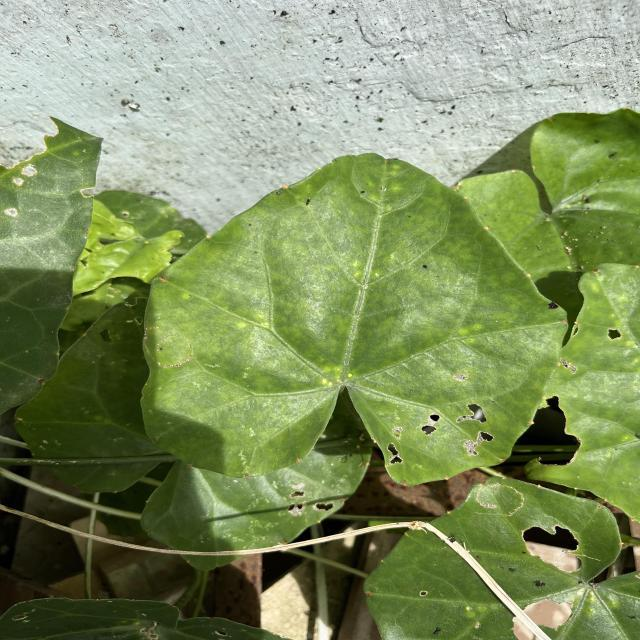Coccinia grandis: (138, 152, 570, 490)
